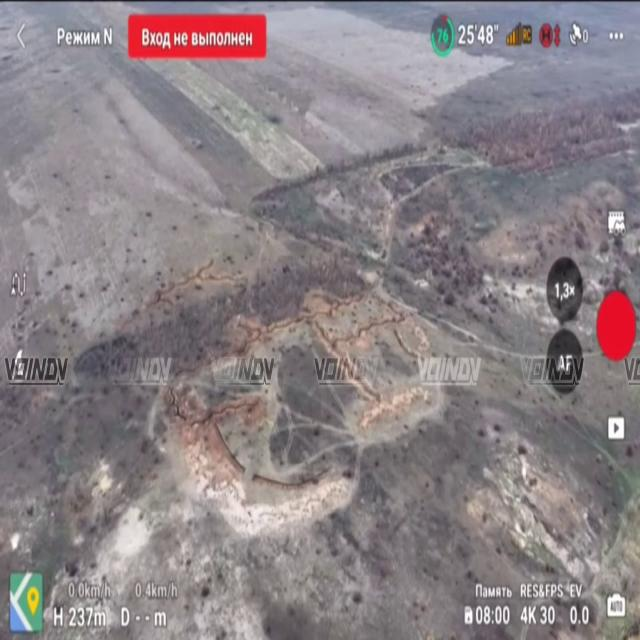fortification: (118, 255, 249, 329), (311, 314, 374, 416), (358, 383, 448, 450), (237, 438, 319, 506), (198, 404, 261, 492), (148, 367, 213, 442), (253, 308, 325, 369), (156, 344, 255, 386), (306, 279, 384, 332), (334, 303, 412, 351), (227, 304, 274, 364), (216, 381, 274, 428), (384, 319, 426, 372)
